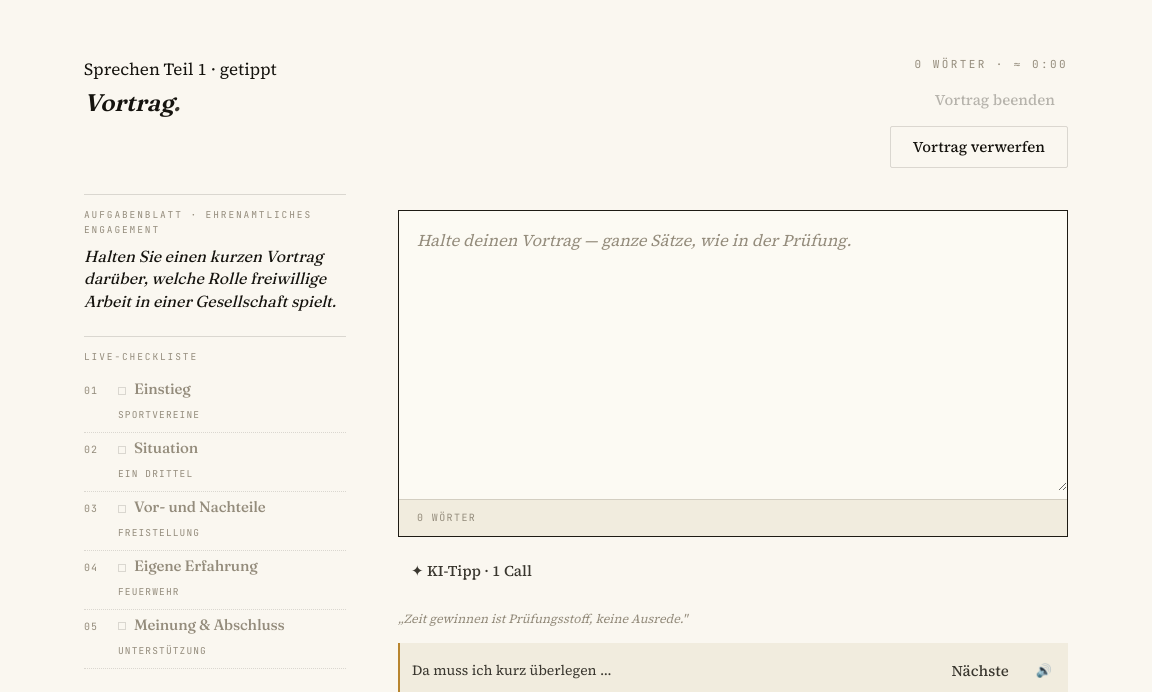
Test case: Teil1Runner grade pipeline › never deletes the Vortrag row when saveQuizRun throws
The width and height of the screenshot is (1152, 692).
Type "Ein Vortrag über das Ehrenamt in unserer Gesellschaft und seine Bedeutung." into the text box with class "rede-textarea" at (733, 351), box [399, 211, 1067, 491]
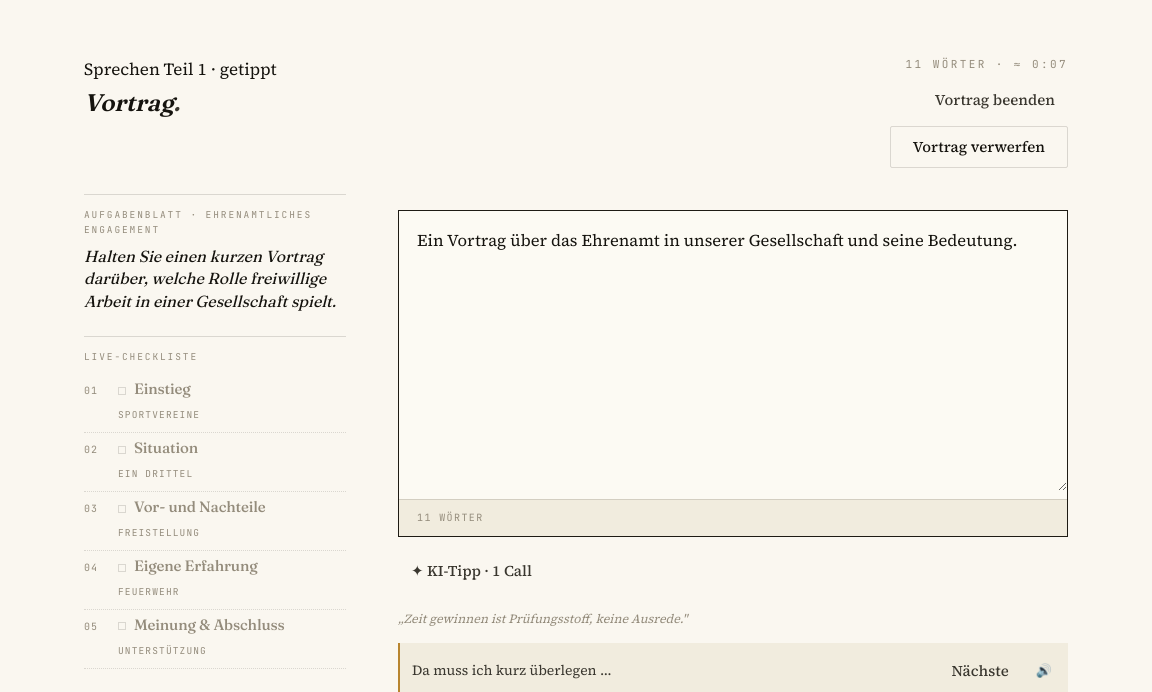
Click the button with class "btn-quiet" showing "Vortrag beenden" at (995, 100), box [922, 82, 1068, 118]
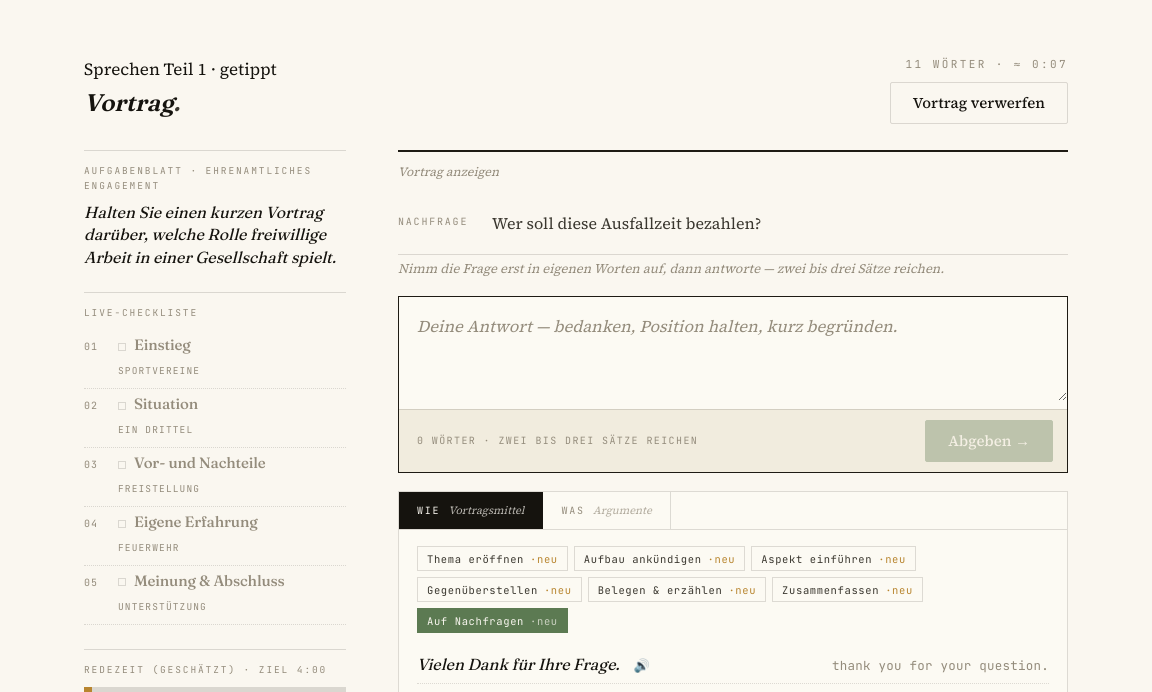
Type "Ich denke, beide Seiten sollten sich beteiligen." into the text box with placeholder "Deine Antwort — bedanken, Position halten, kurz begründen." at (733, 349), box [399, 297, 1067, 401]
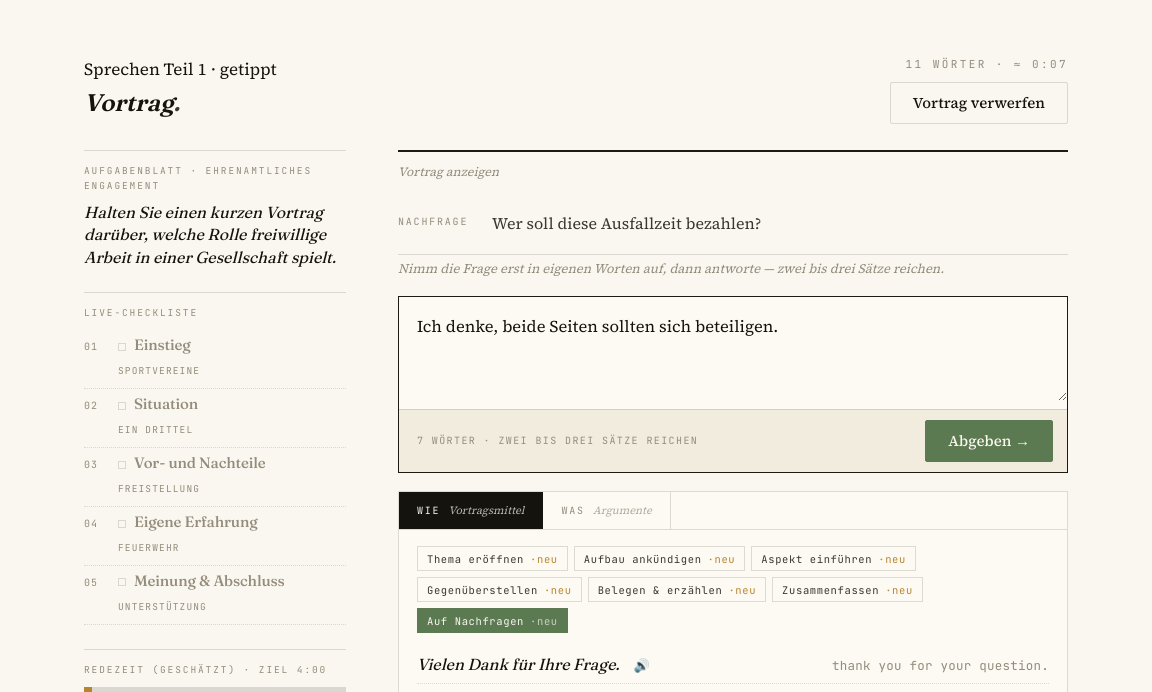
Click the button with class "btn-accent" at (989, 442), box [925, 420, 1053, 462]
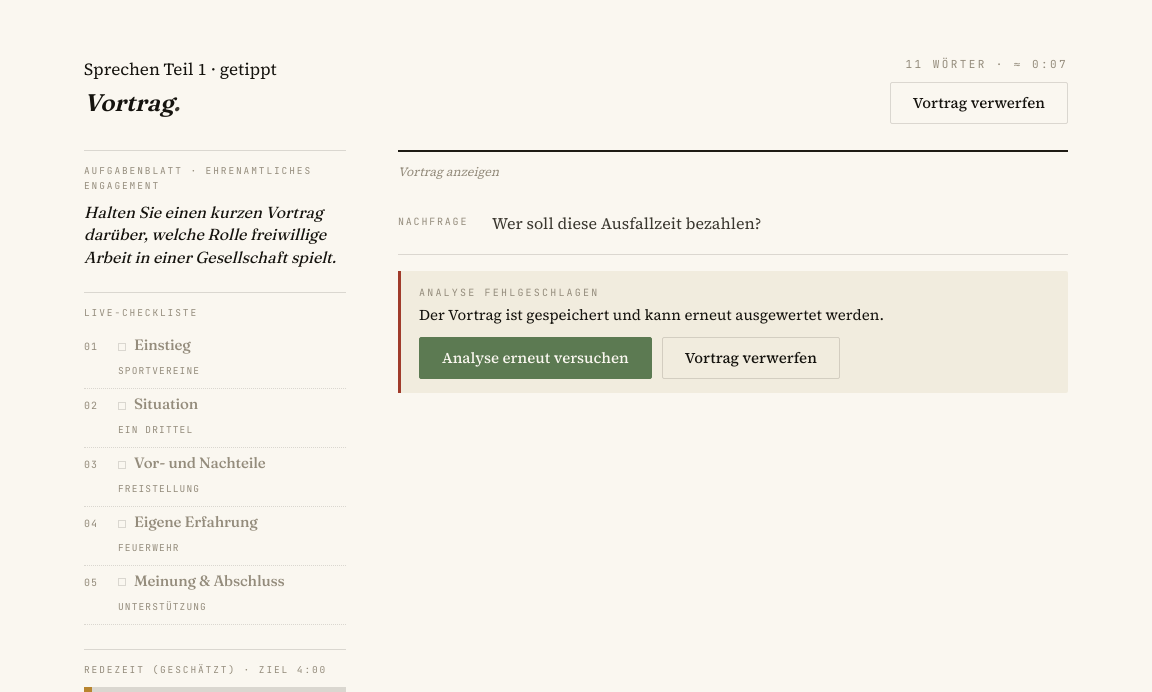
expect the element with class "alert-danger" is shown: met, box [398, 272, 1068, 393]
